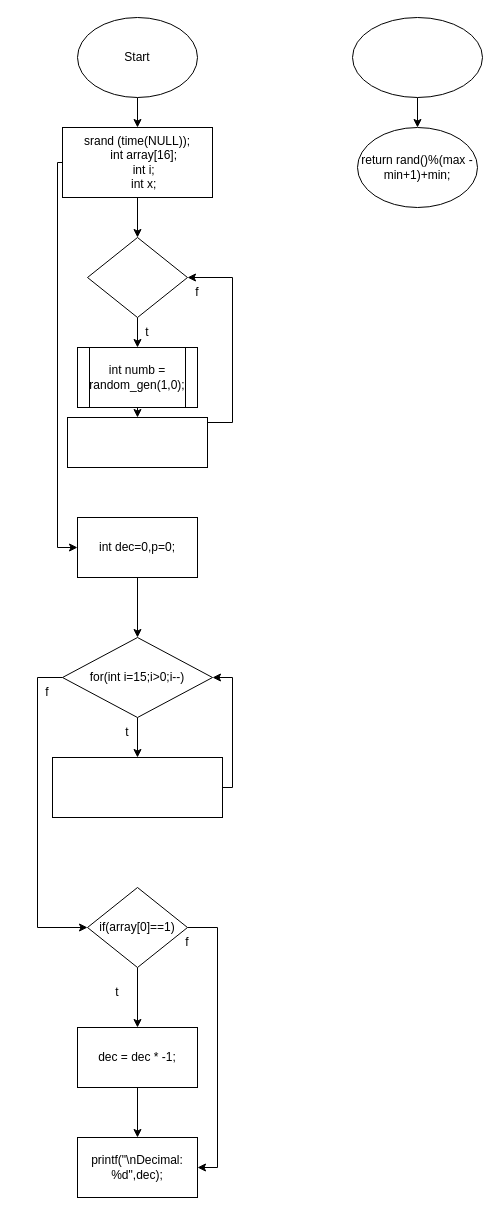
This 500x1215 diagram has some shape labels left out. The shapes that lost their labels are listed below. From the top down, each one's centre as x and y in pixels, then its label:
(417,57): int random_gen(int max, int min
(137,277): for(i=0;i<16;i++)
(137,442): array[i]=numb; printf("%d",array[i]);
(137,787): dec = dec + pow(2,p)*array[i]; p++;
